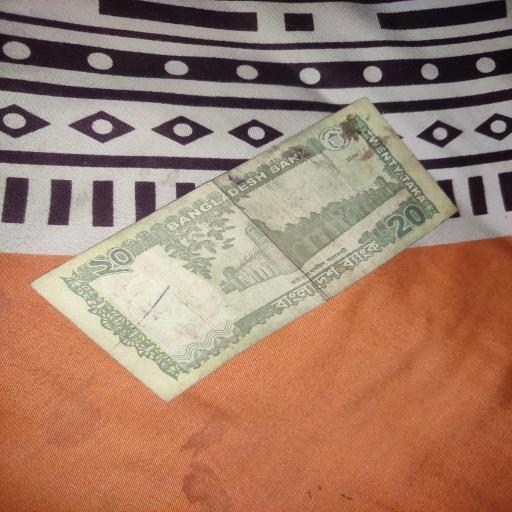20taka: (31, 96, 458, 404)
